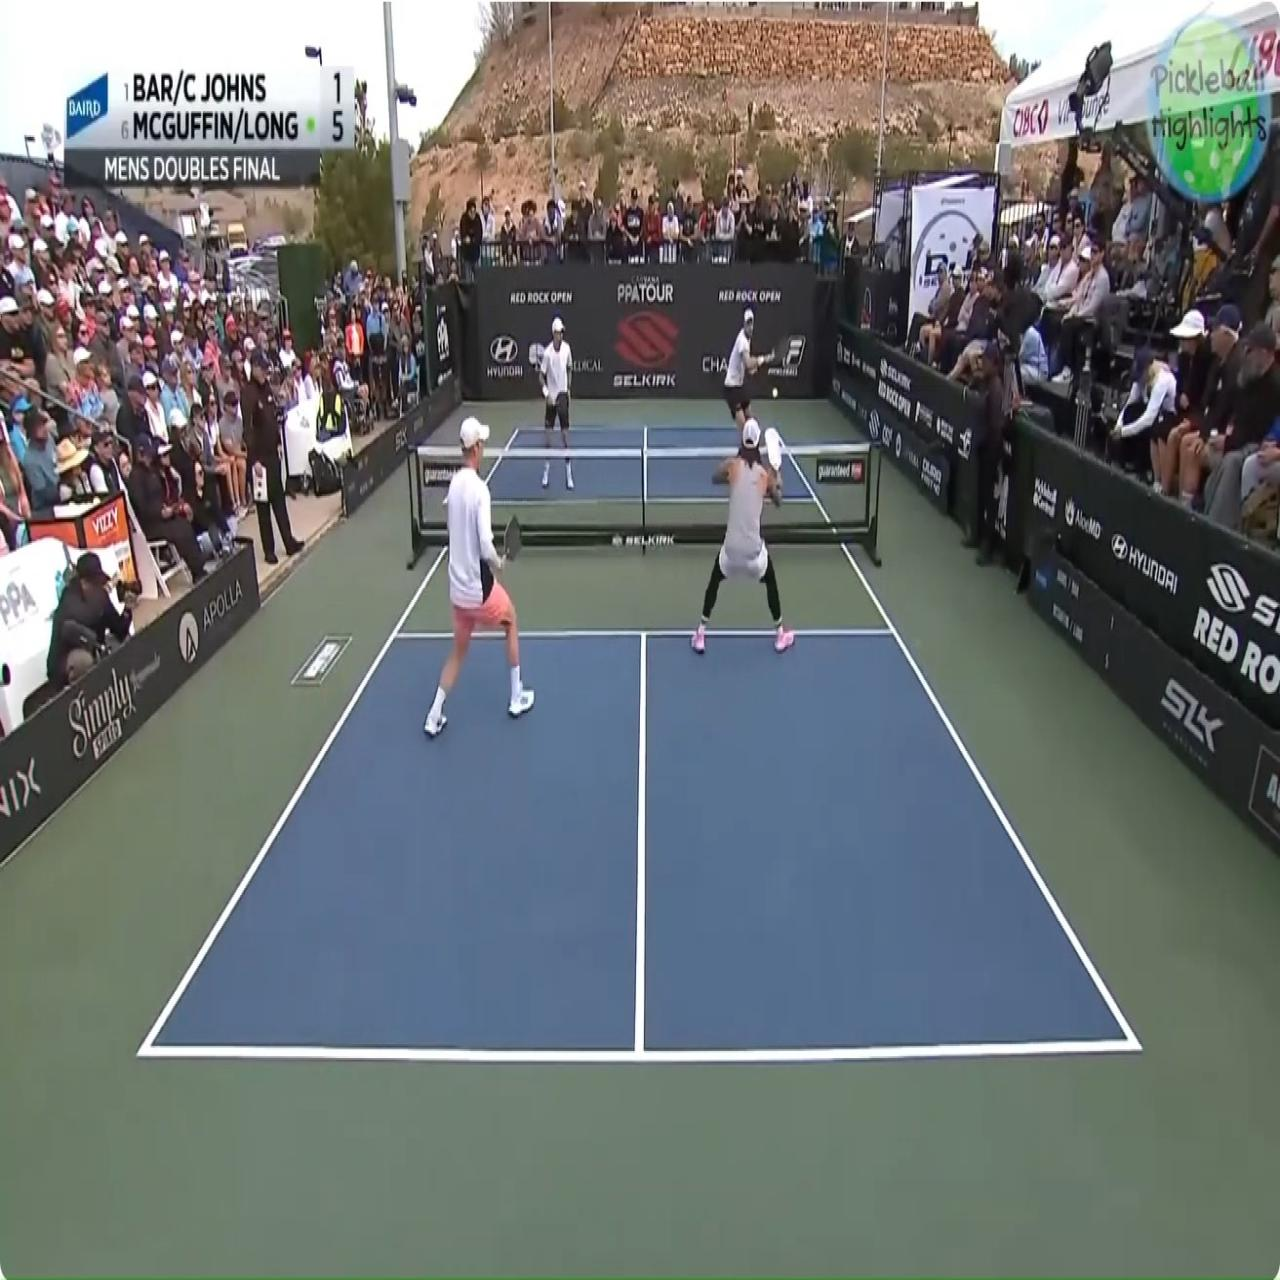pickleball: (772, 387, 778, 399)
